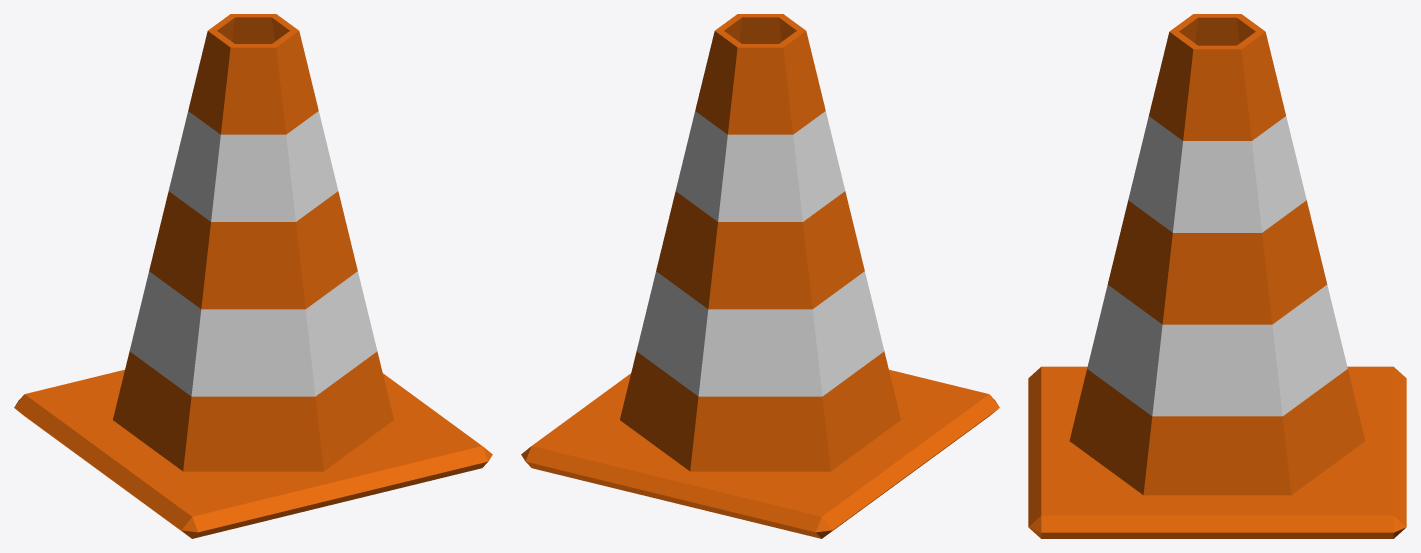
File: TrafficCone.fbx
3 views of the same model, side by side, from view 1: azimuth 30°, elevation 25°; view 2: azimuth 150°, elevation 25°; view 3: azimuth 270°, elevation 25° (orthographic). The views are drawn at different scales.
Visible parts, largest first — view 1: Cone; view 2: Cone; view 3: Cone.
Boxes of the visible parts, x1,y1,x2,y2 form: Cone: (14, 14, 492, 538); Cone: (521, 14, 999, 538); Cone: (1028, 14, 1406, 538).
Size of the model in its own units: 99.96 by 126 by 99.96.
